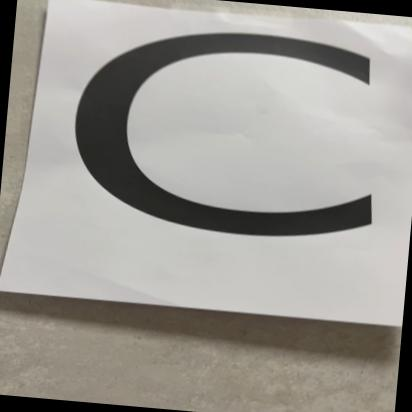seat: (35, 3, 412, 329)
